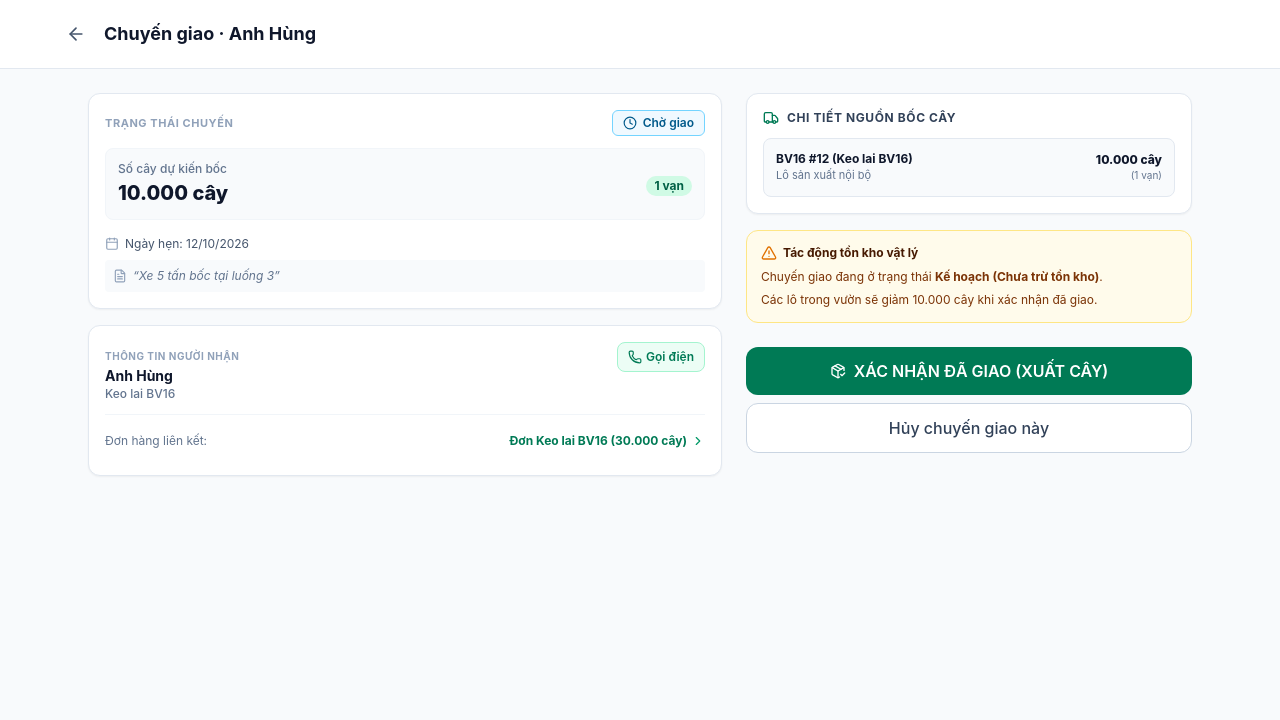
Test: ShipmentDetailScreen › cancels planned shipment via cancel modal
Expected: the heading "Anh Hùng" is shown, [105,367,173,384]
# Click cancel button
Click the button "Hủy chuyến giao này" at (969,428), box [746,403,1192,453]
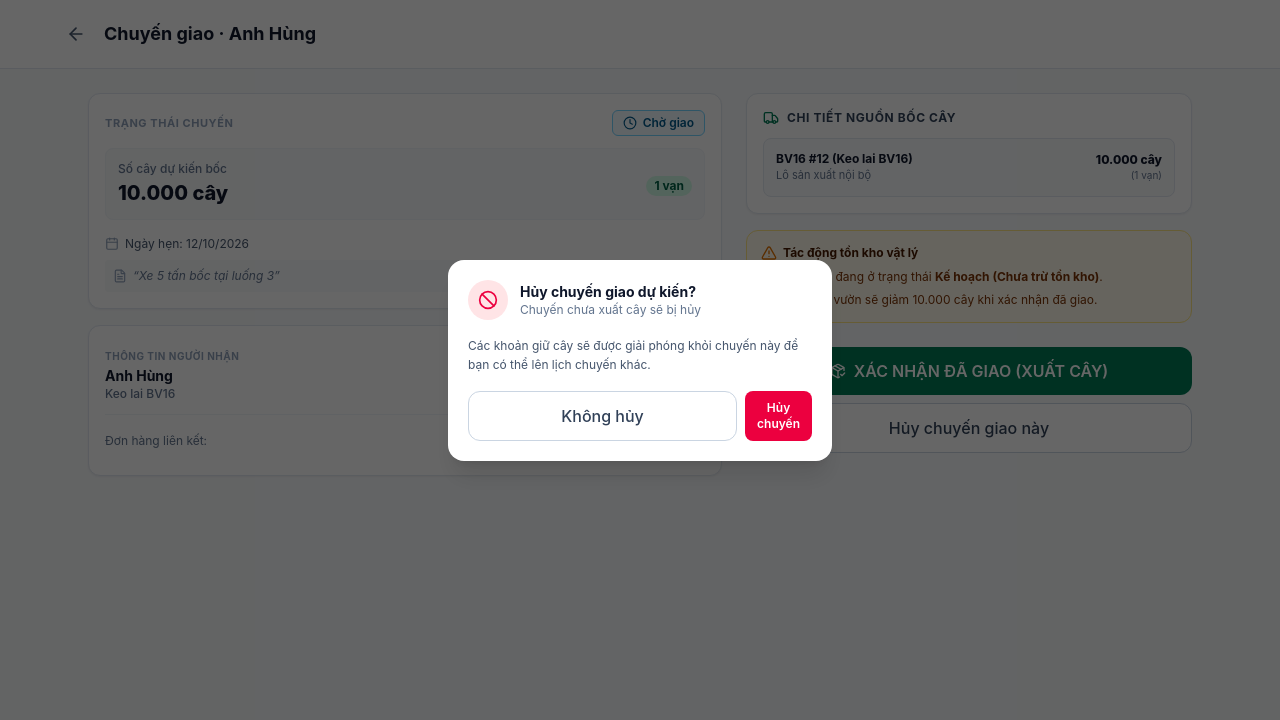
Result: the heading "Hủy chuyến giao dự kiến?" is shown at [520,282,701,302]
# Confirm cancel in modal
Click the button "Hủy chuyến" at (778,416), box [745,390,812,440]
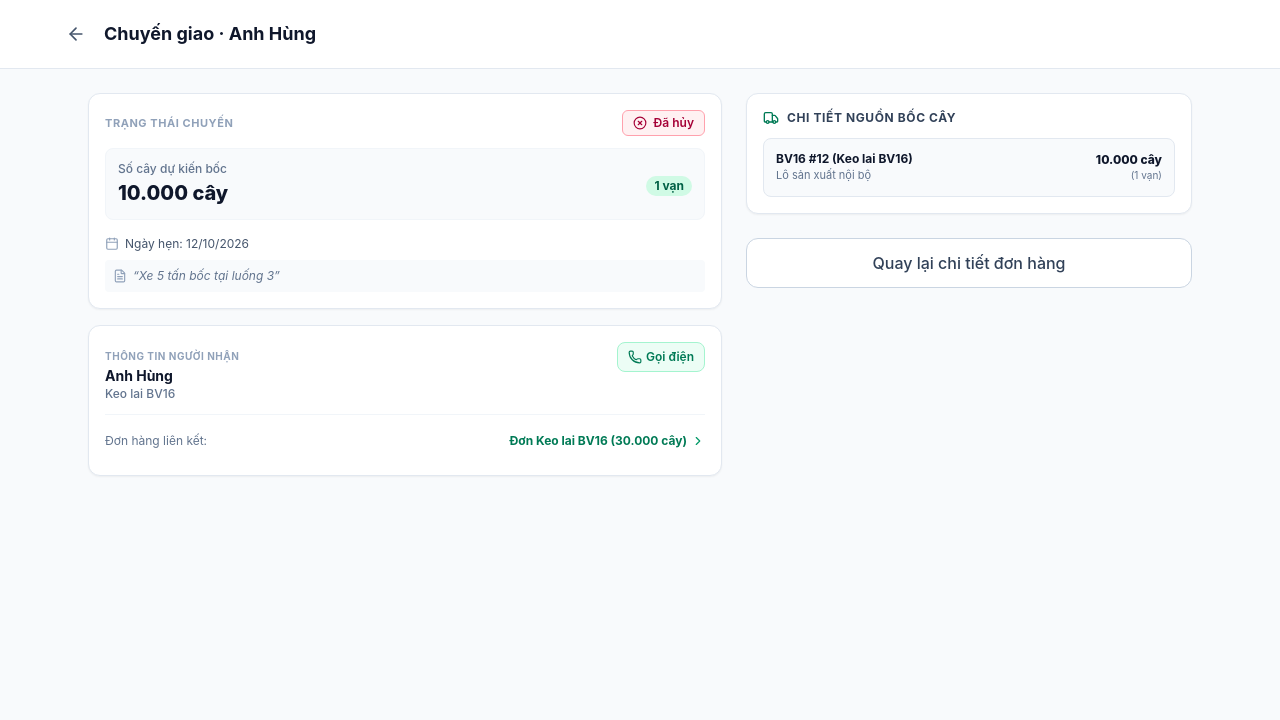
Result: the text "Đã hủy" is shown at [653,115,694,131]
